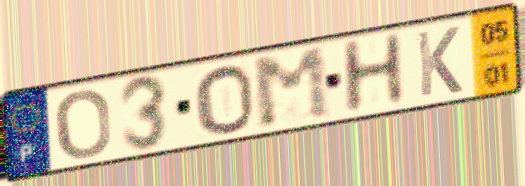3: (117, 71, 171, 156)
H: (337, 29, 409, 118)
K: (414, 24, 465, 100)
M: (249, 44, 335, 133)
O: (191, 63, 257, 136), (52, 87, 114, 162)
